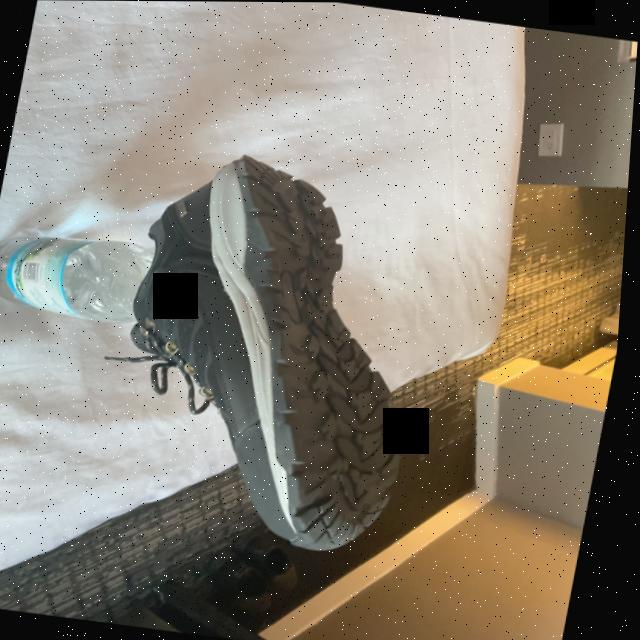shoes: (94, 141, 461, 563)
